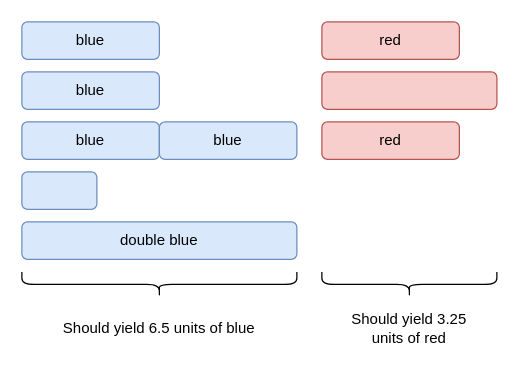
This 519x369 diagram has some shape labels left out. Here are the shapes that lost their labels. From the top down, the centre of each, then its label:
At pixel 409 90: "125% red".
At pixel 59 190: "half of blue".
